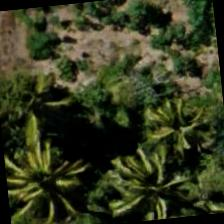Kelapa_Sawit: (5, 129, 105, 223), (134, 64, 223, 163), (90, 141, 188, 223)
